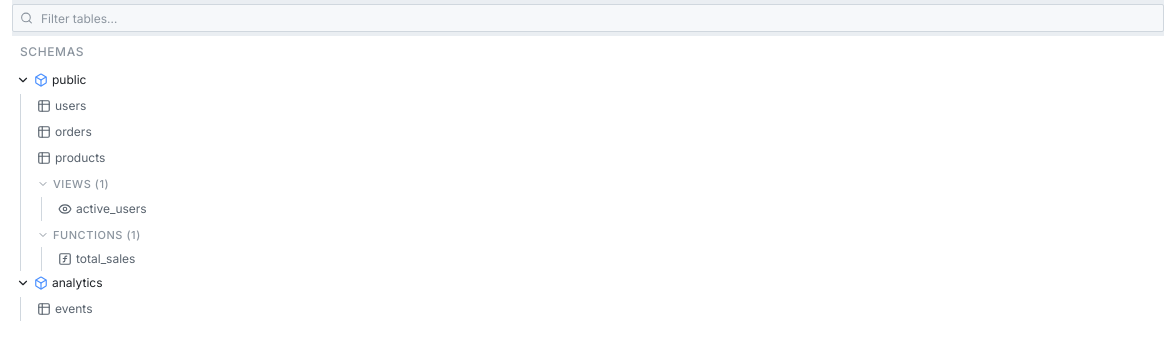
Scenario: SchemaTree filter › clearing the filter restores the full list
Type "ord" into the field labelled "Filter tables" at (588,18), box [12,4,1164,32]
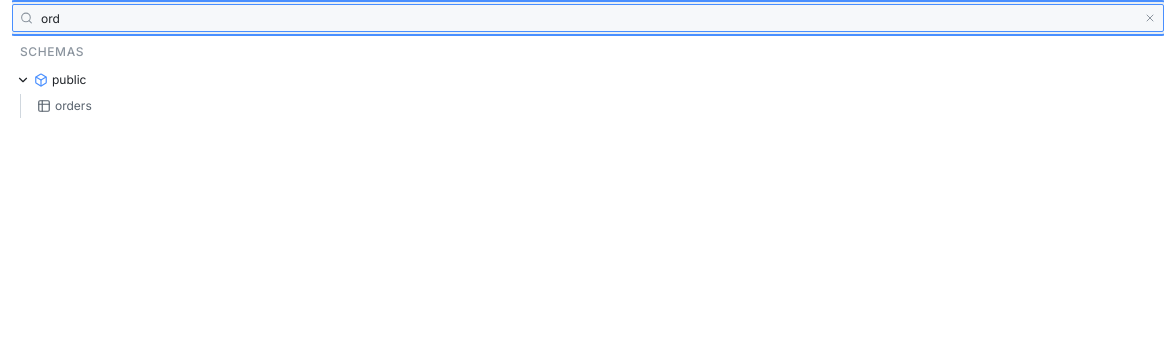
Check: the list item "users" is gone
Click the button named "Clear filter" at (1150,18), box [1142,10,1158,26]
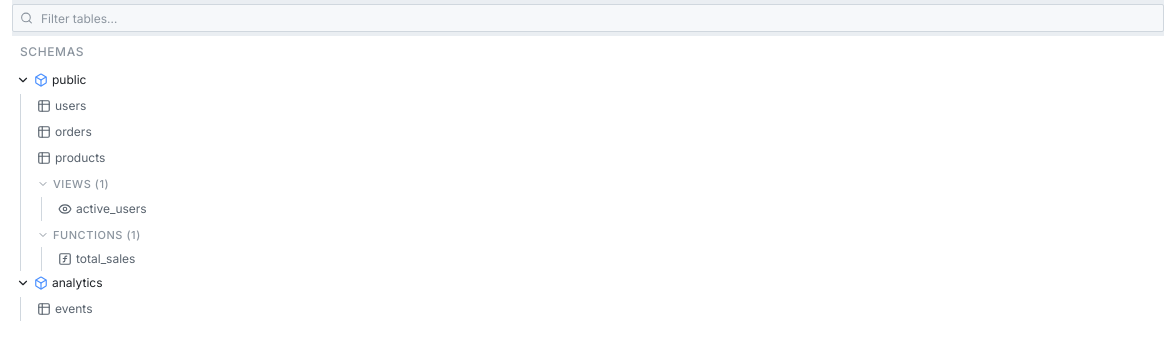
Check: the text "users" is shown, box [55,98,86,114]
Check: the text "events" is shown, box [55,301,92,317]
